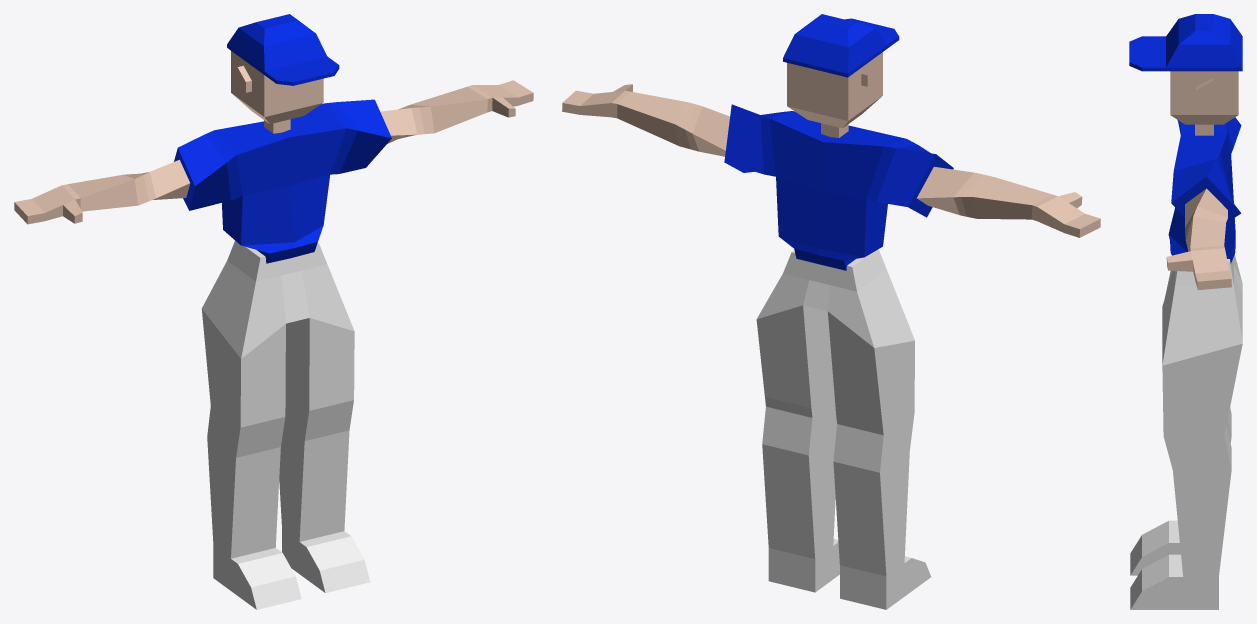
3 views of the same model, side by side, from view 1: azimuth 30°, elevation 25°; view 2: azimuth 150°, elevation 25°; view 3: azimuth 270°, elevation 25° (orthographic). The views are drawn at different scales.
Visible parts, largest first — view 1: Cube.002, Cube.001, Cube; view 2: Cube.002, Cube.001, Cube; view 3: Cube.002, Cube.001, Cube.
Part boxes in pixels (x1=…): Cube.002: x1=201, y1=240, x2=369, y2=609; Cube.001: x1=14, y1=80, x2=533, y2=263; Cube: x1=227, y1=14, x2=339, y2=133; Cube.002: x1=756, y1=249, x2=931, y2=609; Cube.001: x1=562, y1=84, x2=1100, y2=270; Cube: x1=783, y1=14, x2=899, y2=137; Cube.002: x1=1130, y1=254, x2=1242, y2=609; Cube.001: x1=1166, y1=117, x2=1241, y2=290; Cube: x1=1129, y1=14, x2=1242, y2=135.
Size of the model in its own units: 1745 by 1806 by 332.
